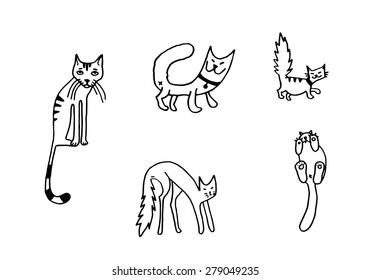cat: (43, 52, 110, 207), (135, 158, 222, 238), (148, 40, 236, 116), (271, 30, 329, 102), (290, 130, 329, 233)
